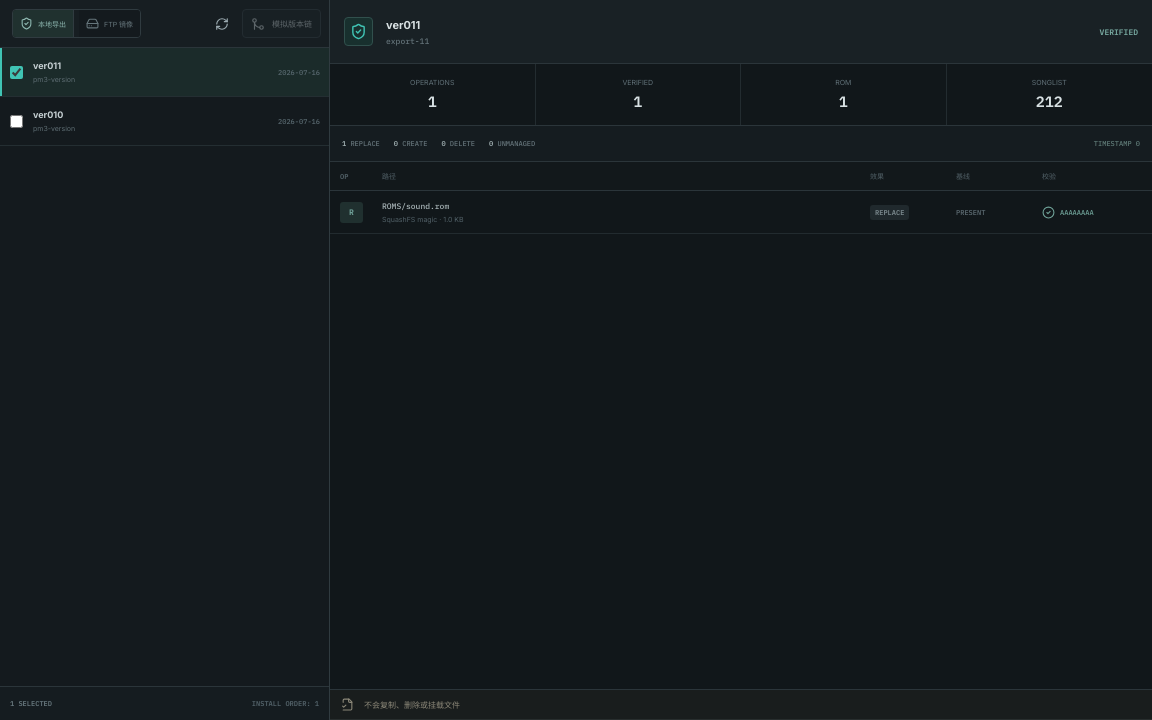
Test case: Pm3OtaAuditView › scans the trusted FTP mirror with optional full MD5 verification
Check: the text "ROMS/sound.rom" is shown, box [382, 200, 449, 210]
Click the tab "FTP 镜像": click(110, 24) [79, 10, 140, 37]
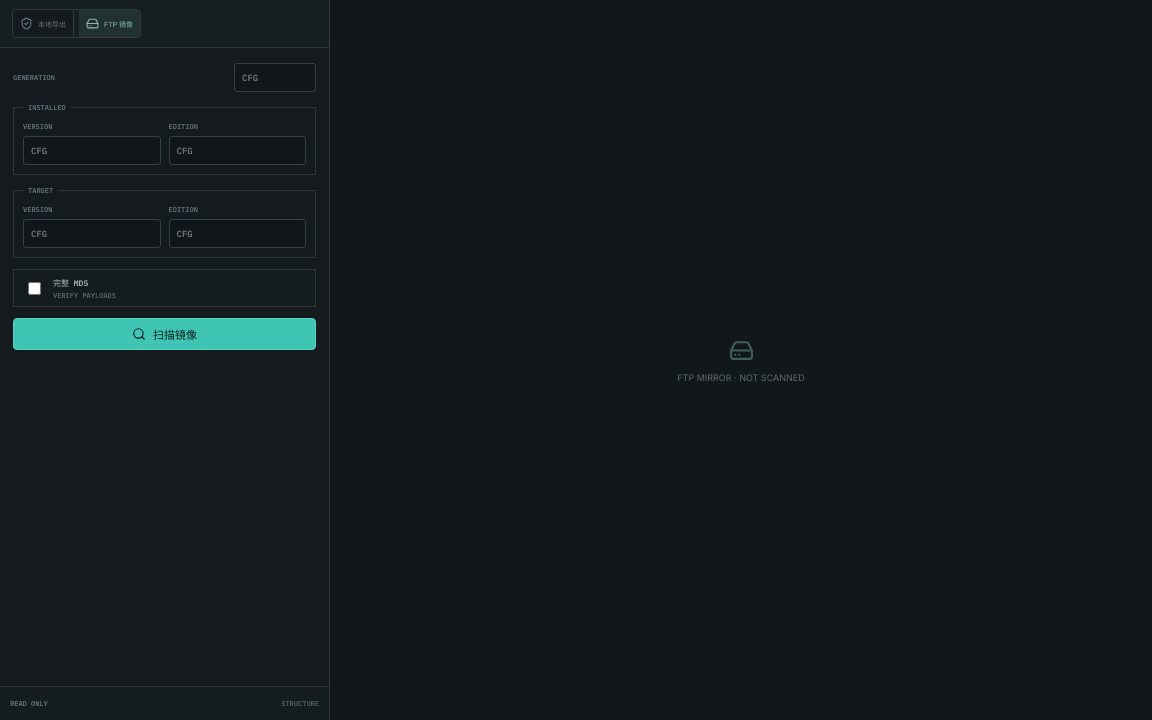
Click the checkbox labelled "完整 MD5 VERIFY PAYLOADS": click(34, 288) [26, 282, 43, 294]
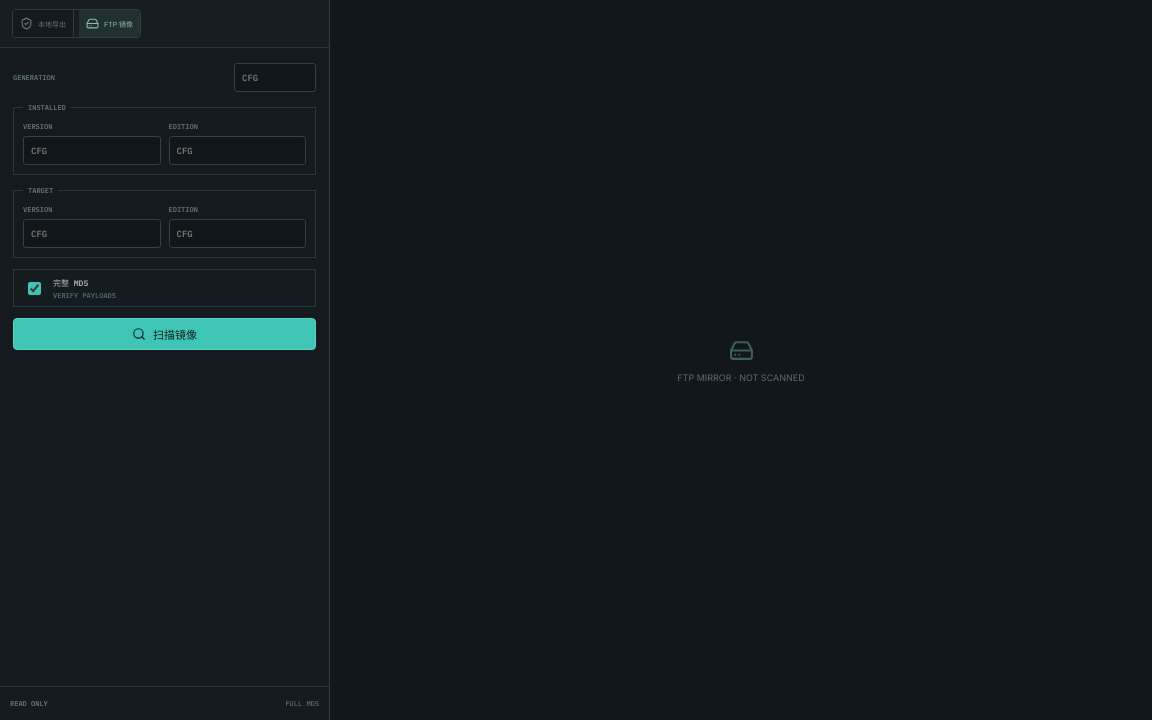
Click the button "扫描镜像": click(164, 334) [13, 318, 316, 350]
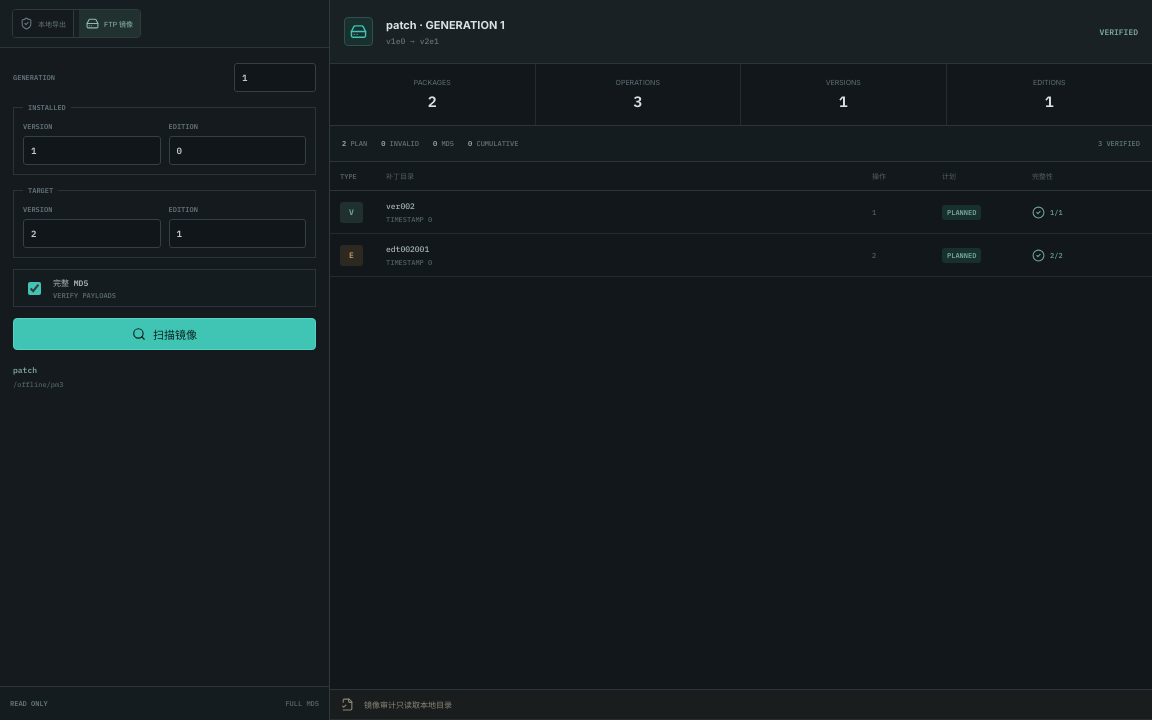
Check: the text "VERIFIED" is shown, box [1100, 26, 1138, 36]
Check: the text "patch · GENERATION 1" is shown, box [386, 18, 505, 32]
Check: the text "edt002001" is shown, box [386, 244, 429, 254]
